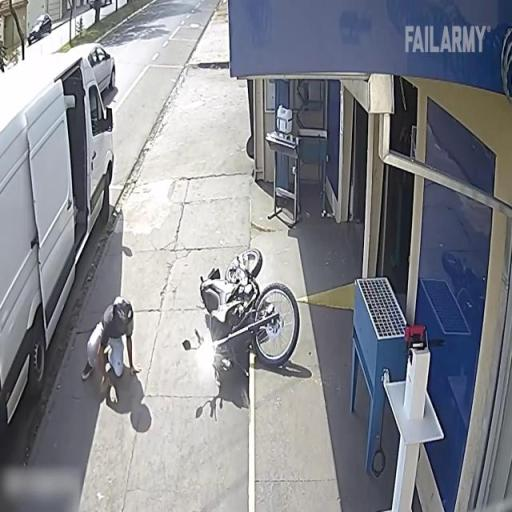Fall: (80, 293, 142, 405)
